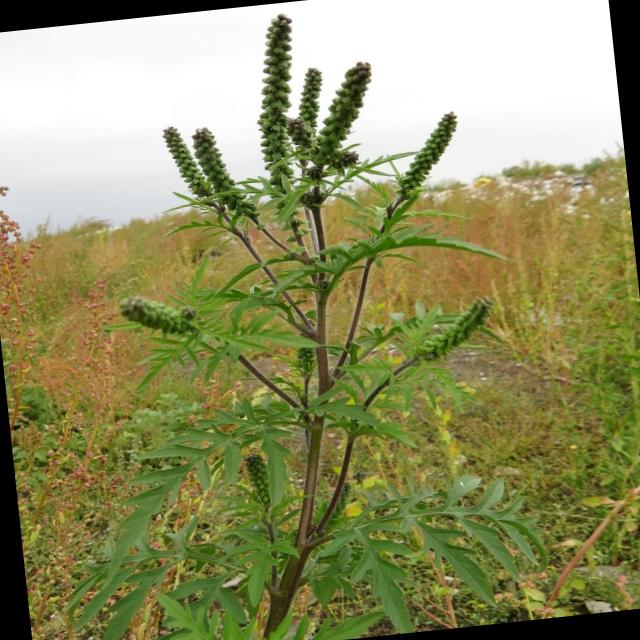ambrosia: (222, 12, 325, 215), (383, 276, 517, 372), (114, 261, 229, 370), (150, 118, 243, 220), (404, 98, 476, 214), (326, 50, 385, 189)
